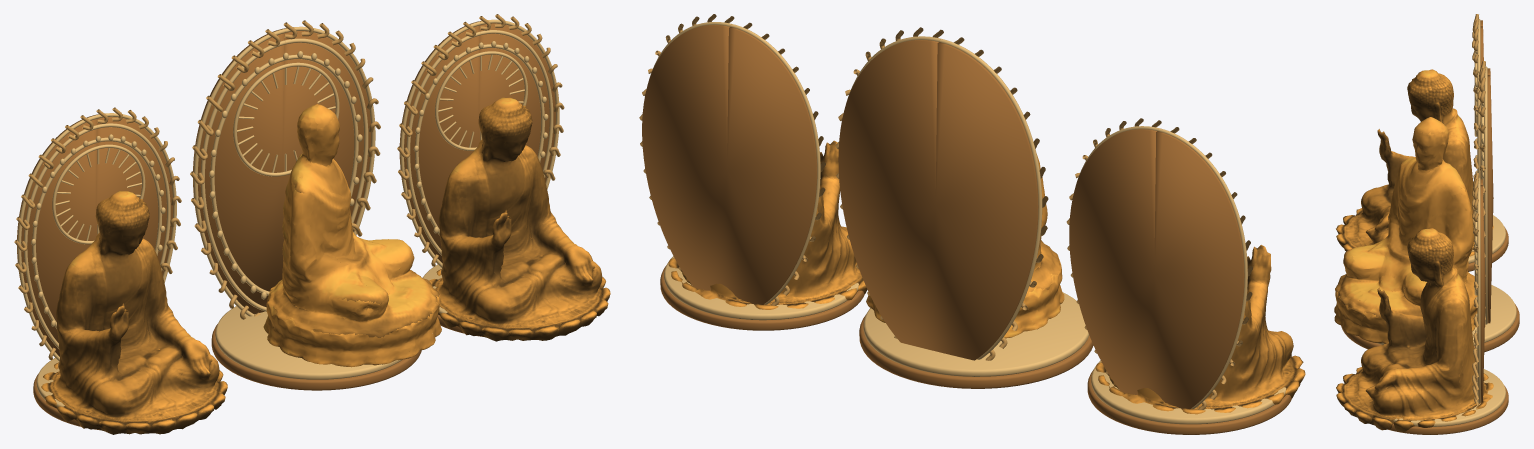
Rendered from scanned-altar-draft.glb.
3 views of the same model, side by side, from view 1: azimuth 30°, elevation 25°; view 2: azimuth 150°, elevation 25°; view 3: azimuth 270°, elevation 25° (orthographic). The views are drawn at different scales.
Visible parts, largest first — view 1: Saffron bronze drapery, Polished raised edges, Tian Tan seated statue left, Tian Tan seated statue right, Long Son meditation statue, Warm aged gilt bronze; view 2: Saffron bronze drapery, Polished raised edges, Tian Tan seated statue left, Tian Tan seated statue right, Warm aged gilt bronze, Long Son meditation statue; view 3: Tian Tan seated statue right, Long Son meditation statue, Tian Tan seated statue left, Polished raised edges, Saffron bronze drapery, Warm aged gilt bronze.
Boxes of the visible parts, <box> form: Saffron bronze drapery: <box>17,21,555,430</box>; Polished raised edges: <box>17,19,559,406</box>; Tian Tan seated statue left: <box>41,191,227,434</box>; Tian Tan seated statue right: <box>429,97,610,341</box>; Long Son meditation statue: <box>263,104,441,367</box>; Warm aged gilt bronze: <box>14,14,564,367</box>; Saffron bronze drapery: <box>642,25,1291,434</box>; Polished raised edges: <box>649,22,1286,424</box>; Tian Tan seated statue left: <box>1095,245,1305,414</box>; Tian Tan seated statue right: <box>668,140,867,309</box>; Warm aged gilt bronze: <box>639,14,1252,409</box>; Long Son meditation statue: <box>866,154,1064,338</box>; Tian Tan seated statue right: <box>1336,228,1493,431</box>; Long Son meditation statue: <box>1334,117,1477,343</box>; Tian Tan seated statue left: <box>1336,69,1493,256</box>; Polished raised edges: <box>1377,19,1516,426</box>; Saffron bronze drapery: <box>1341,20,1519,434</box>; Warm aged gilt bronze: <box>1472,14,1485,405</box>.
Bounding box in the file's own units: 7.32 × 3.92 × 2.52.
Materials: 5 (2 with a texture image).
